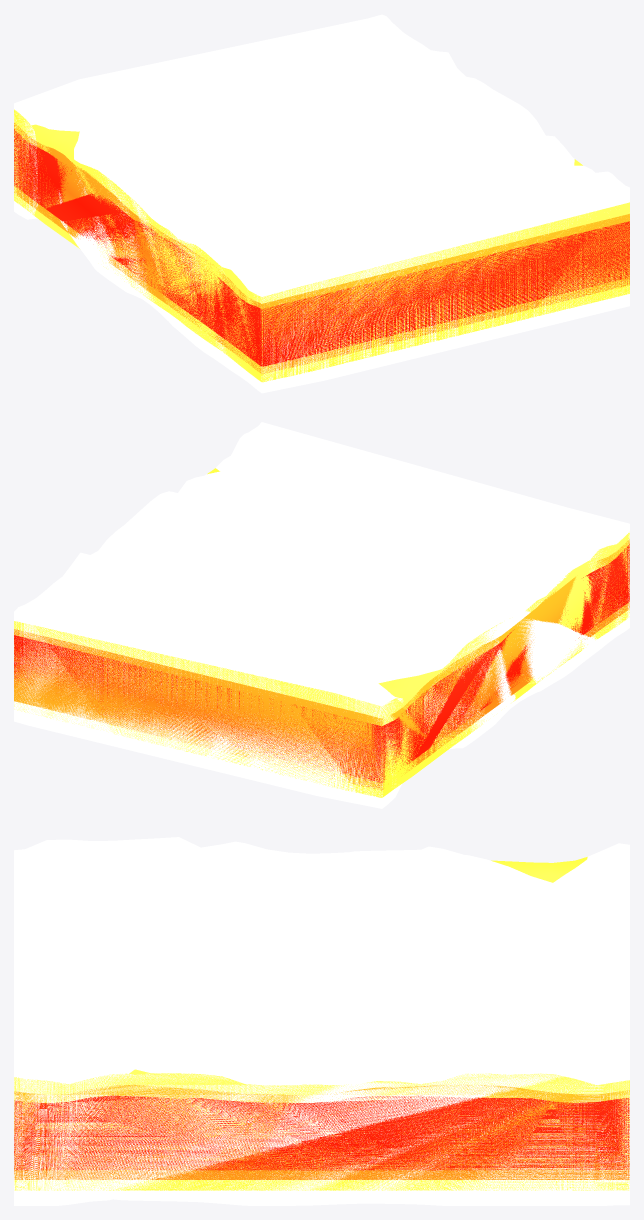
The model's file is newshk-53.glb.
3 views of the same model, one above another, from view 1: azimuth 30°, elevation 25°; view 2: azimuth 150°, elevation 25°; view 3: azimuth 270°, elevation 25° (orthographic). The views are drawn at different scales.
Visible parts, largest first — view 1: newshk-53; view 2: newshk-53; view 3: newshk-53.
Boxes of the visible parts, bbox=[...] form: newshk-53: bbox=[14, 14, 629, 393]; newshk-53: bbox=[14, 422, 629, 808]; newshk-53: bbox=[14, 837, 629, 1205].
Size of the model in its own units: 2 by 0.629 by 2.33.
